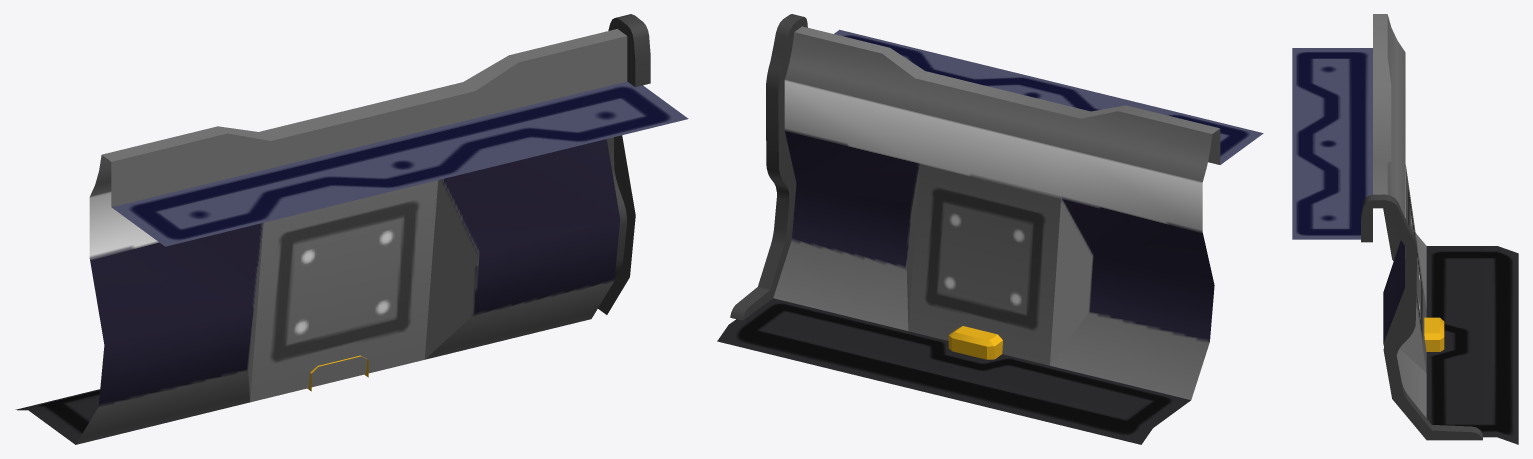
The model's file is wall_large.glb.
The picture shows the model from 3 angles, left to right: view 1: azimuth 30°, elevation 25°; view 2: azimuth 150°, elevation 25°; view 3: azimuth 270°, elevation 25°; orthographic projection. The views are drawn at different scales.
Parts seen in each view (by area): view 1: structural_wall-B; view 2: structural_wall-B; view 3: structural_wall-B.
Boxes of the visible parts, box(x1,y1,x2,y2) form: structural_wall-B: box(15, 14, 688, 444); structural_wall-B: box(717, 14, 1263, 444); structural_wall-B: box(1292, 14, 1518, 444).
Bounding box in the file's own units: 4.06 × 2.41 × 2.
1 material, 1 textured.
